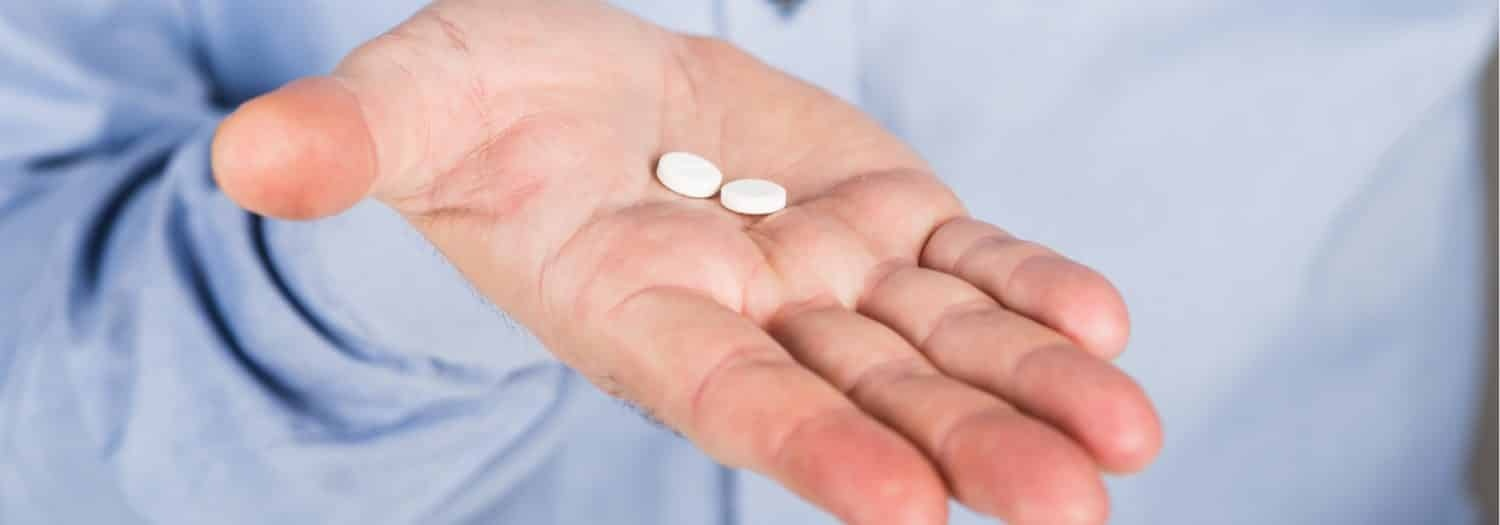pills: (654, 137, 731, 210), (726, 170, 804, 221)
